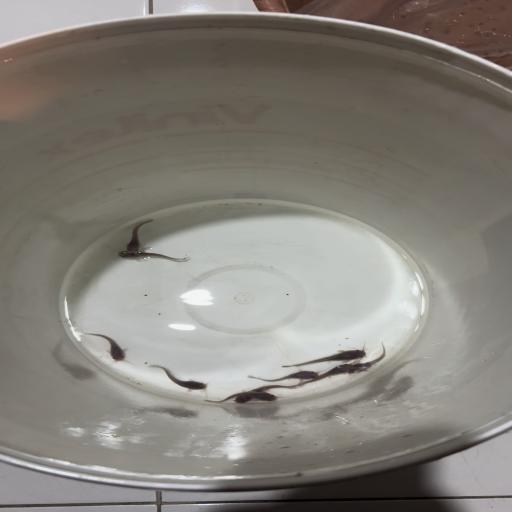lele: (278, 345, 368, 367), (74, 329, 130, 364), (144, 364, 210, 393), (289, 362, 355, 389), (348, 341, 392, 375), (232, 383, 300, 402), (123, 217, 156, 252), (198, 390, 278, 404), (244, 370, 320, 383), (118, 250, 189, 262)
